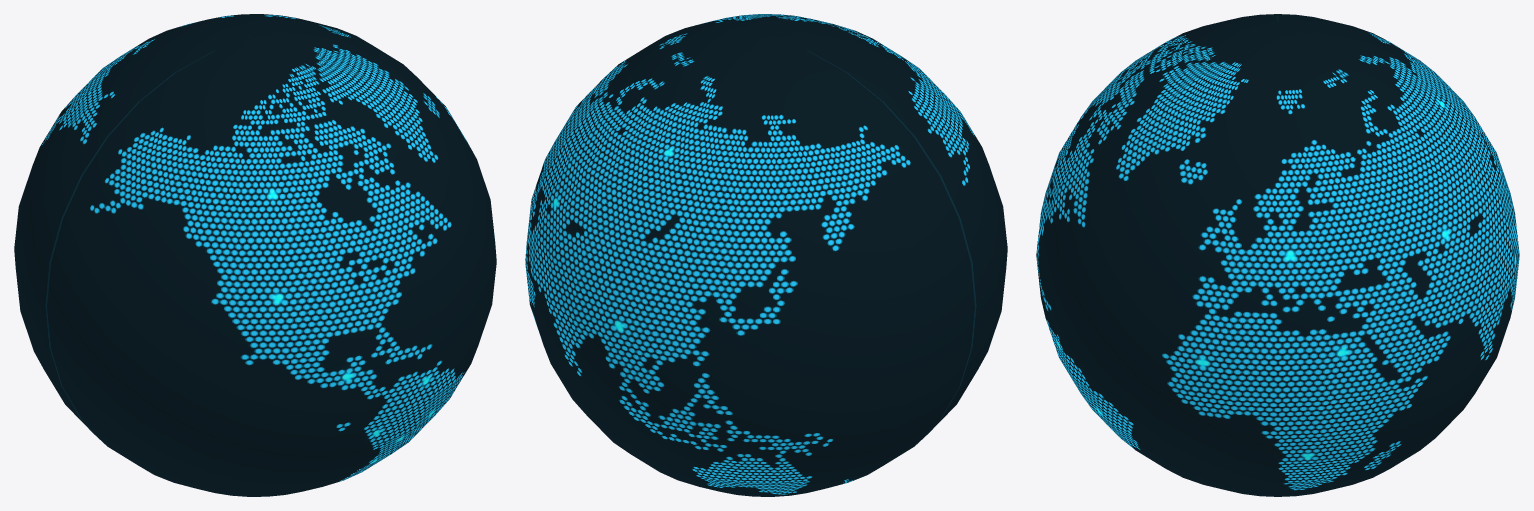
File: Mundo6.gltf
3 views of the same model, side by side, from view 1: azimuth 30°, elevation 25°; view 2: azimuth 150°, elevation 25°; view 3: azimuth 270°, elevation 25° (orthographic).
Parts seen in each view (by area): view 1: Sphere.001; view 2: Sphere.001; view 3: Sphere.001.
Boxes of the visible parts, <box> form: Sphere.001: <box>14,14,496,496</box>; Sphere.001: <box>525,14,1007,496</box>; Sphere.001: <box>1036,14,1519,496</box>.
Bounding box in the file's own units: 3.99 × 3.99 × 3.99.
Materials: 1 (1 with a texture image).
